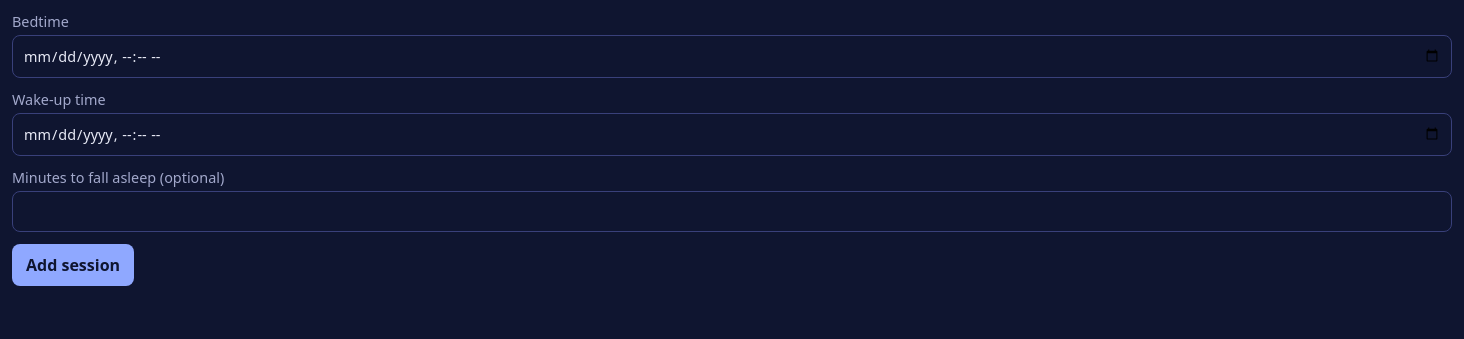
SleepForm › shows an error when times are missing
This screenshot has width=1464, height=339.
What coordinates should you click on to do the following:
click the button "Add session"
I would click on:
 (73, 265)
Its box is [12,244,134,286].
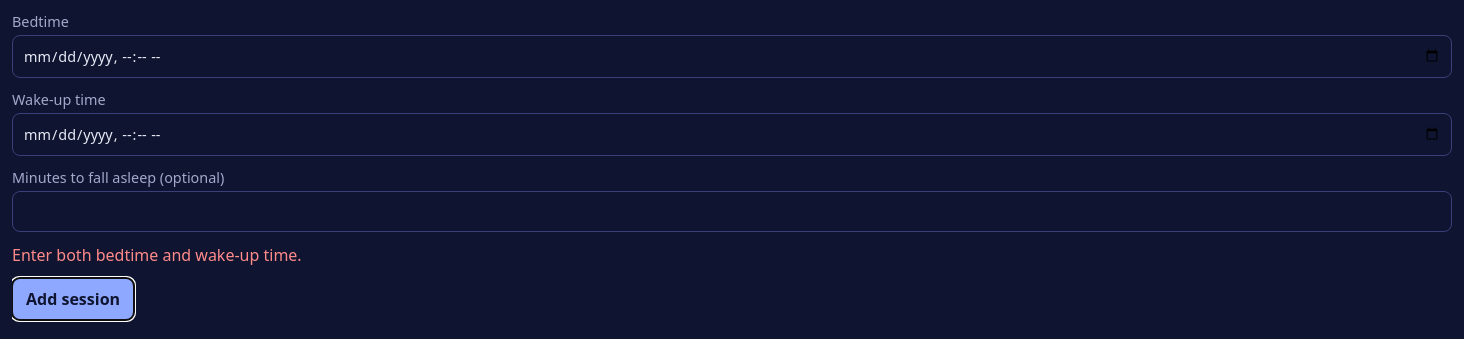
Expected: the message reads "Enter both bedtime and wake-up time.", [12,244,302,266]
